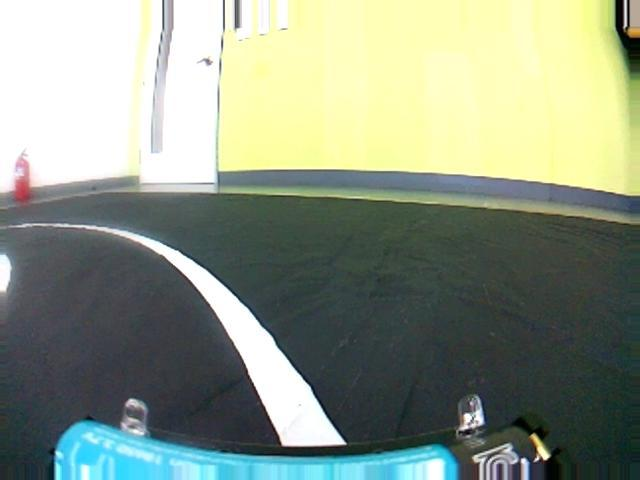left: (0, 207, 587, 467)
